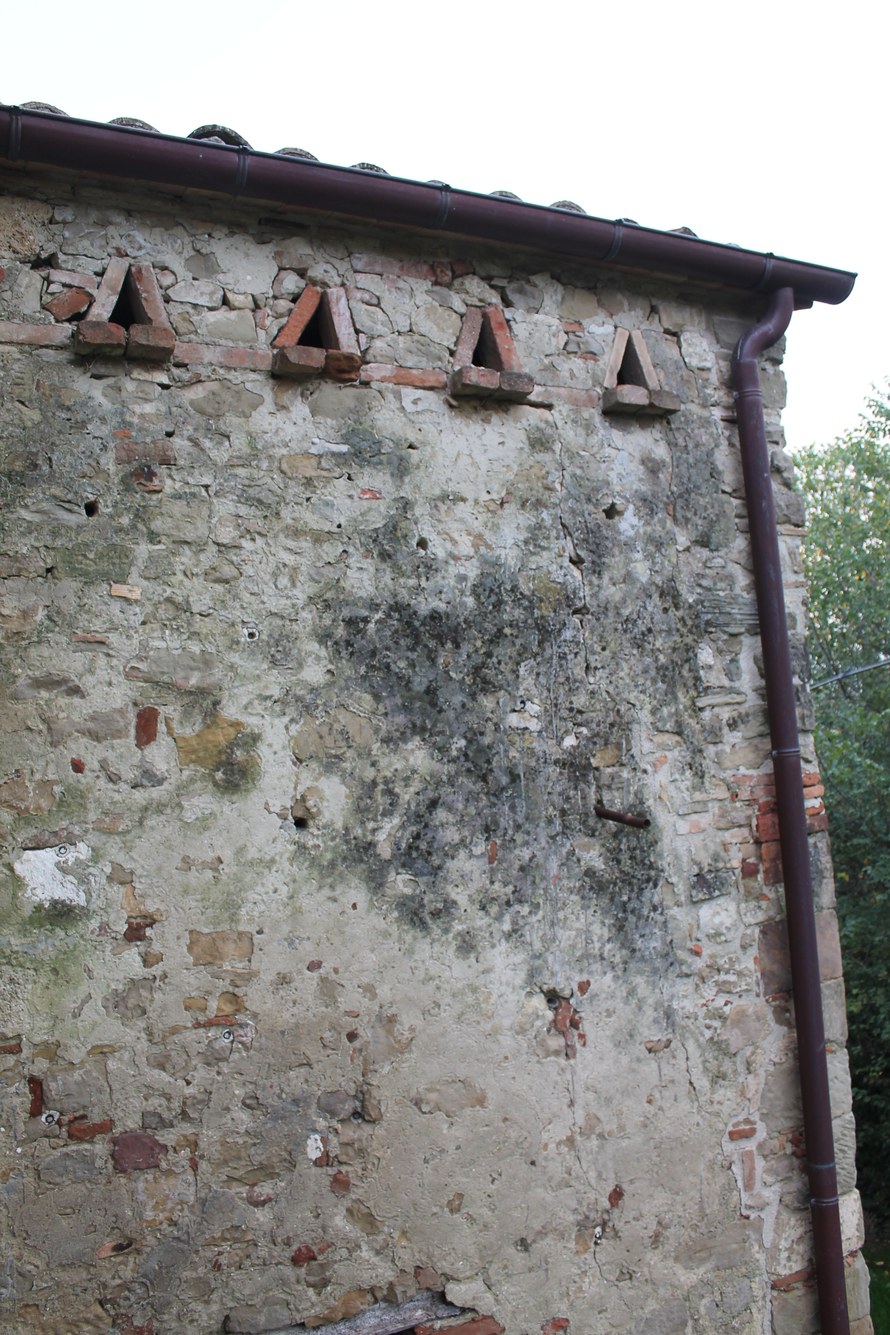Crack: (501, 411, 769, 939)
